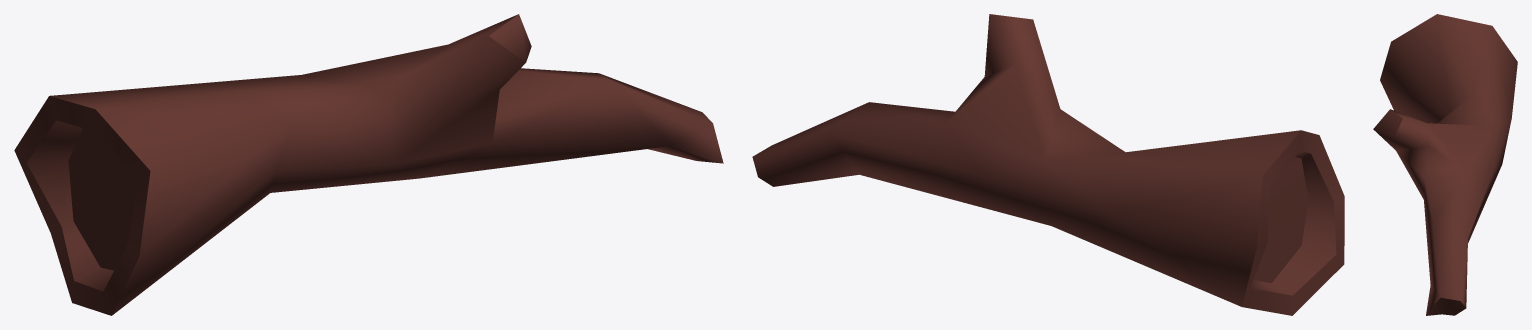
Rendered from Tree.025.fbx.
3 renders of one model, left to right at view 1: azimuth 30°, elevation 25°; view 2: azimuth 150°, elevation 25°; view 3: azimuth 270°, elevation 25°, orthographic. The views are drawn at different scales.
Parts seen in each view (by area): view 1: Tree.025; view 2: Tree.025; view 3: Tree.025.
Boxes of the visible parts, left/top/right/bottom form: Tree.025: left=14, top=14, right=723, bottom=315; Tree.025: left=752, top=14, right=1344, bottom=315; Tree.025: left=1373, top=14, right=1517, bottom=315.
Size of the model in its own units: 377 by 125 by 122.
